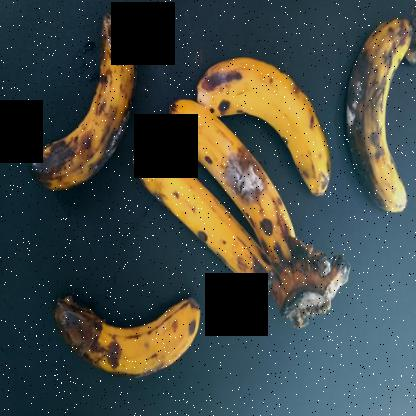overripe: (190, 49, 338, 198), (131, 154, 273, 299), (158, 103, 295, 250)
rotten: (27, 3, 140, 208), (40, 284, 209, 392), (344, 6, 415, 235), (216, 128, 265, 226)
